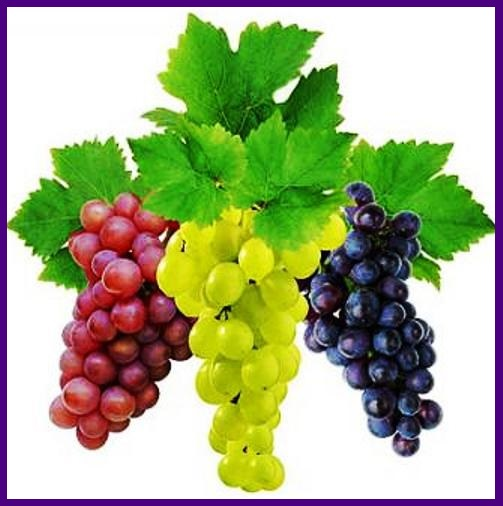Black grapes: (300, 170, 452, 462)
Green grapes: (169, 181, 338, 502)
Red Grapes: (41, 161, 194, 457)
